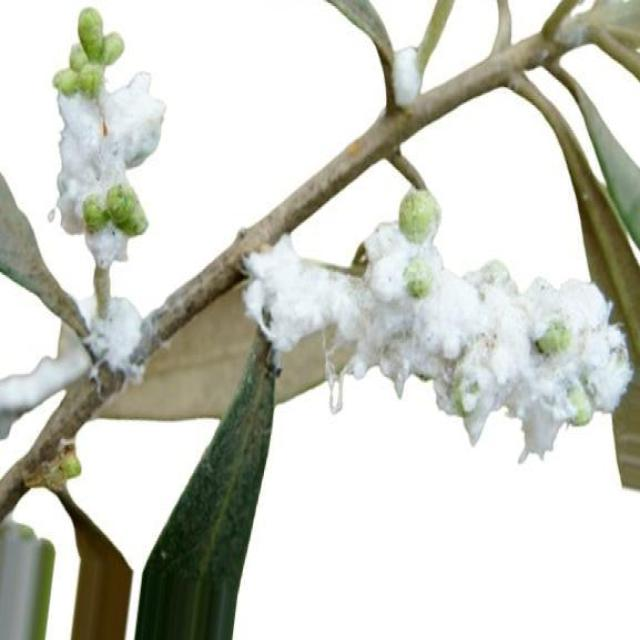Psyllid: (243, 191, 632, 458), (0, 7, 164, 438)
